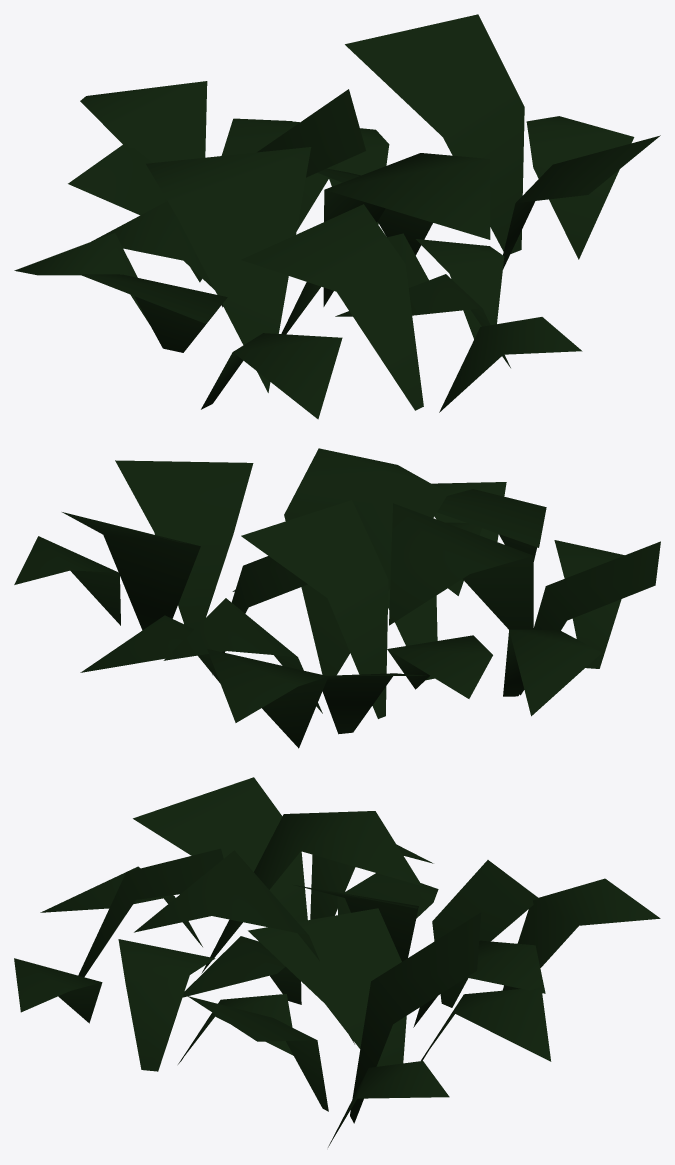
File: Grass_B.FBX
The picture shows the model from 3 angles, top to bottom: view 1: azimuth 30°, elevation 25°; view 2: azimuth 150°, elevation 25°; view 3: azimuth 270°, elevation 25°; orthographic projection. The views are drawn at different scales.
Parts seen in each view (by area): view 1: Grass_B; view 2: Grass_B; view 3: Grass_B.
Boxes of the visible parts, box(x1,y1,x2,y2) form: Grass_B: box(14, 14, 660, 419); Grass_B: box(14, 448, 660, 748); Grass_B: box(14, 777, 660, 1147).
Bounding box in the file's own units: 68.13 × 20.5 × 68.45.
